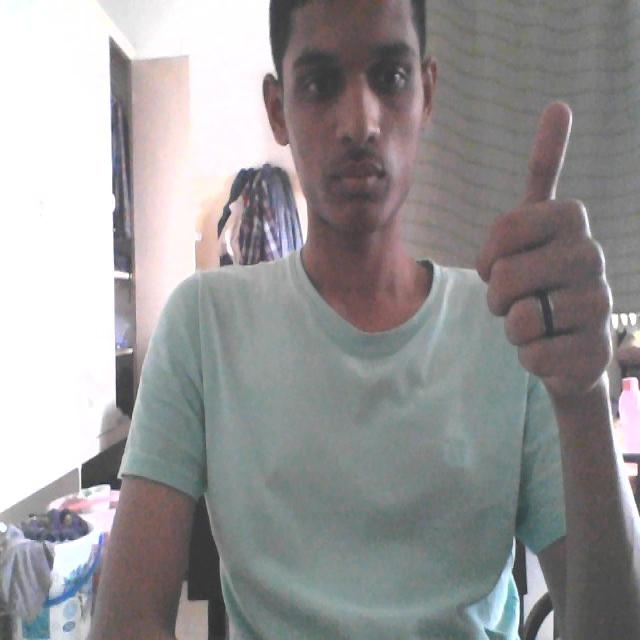Yes: (482, 73, 608, 412)
